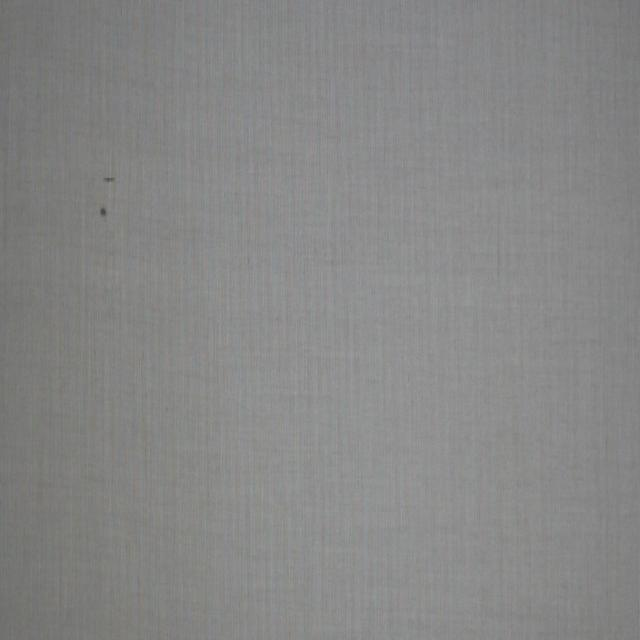dirty: (102, 176, 116, 185), (101, 205, 107, 223)
